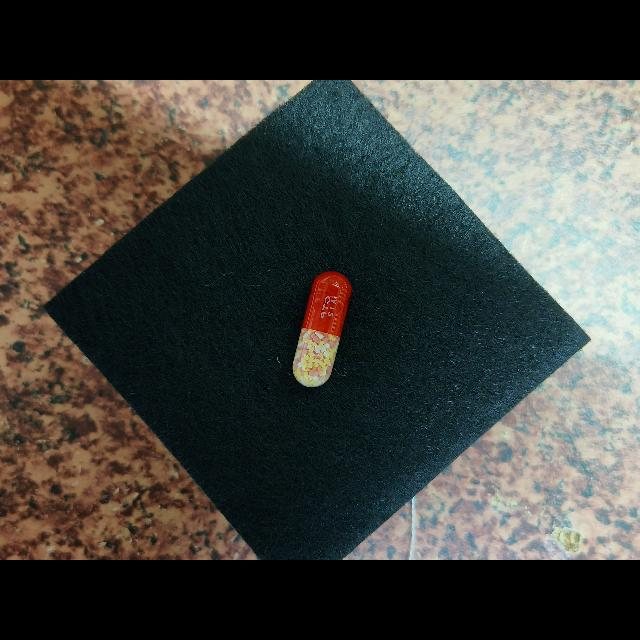Intact Capsule: (292, 271, 352, 387)
